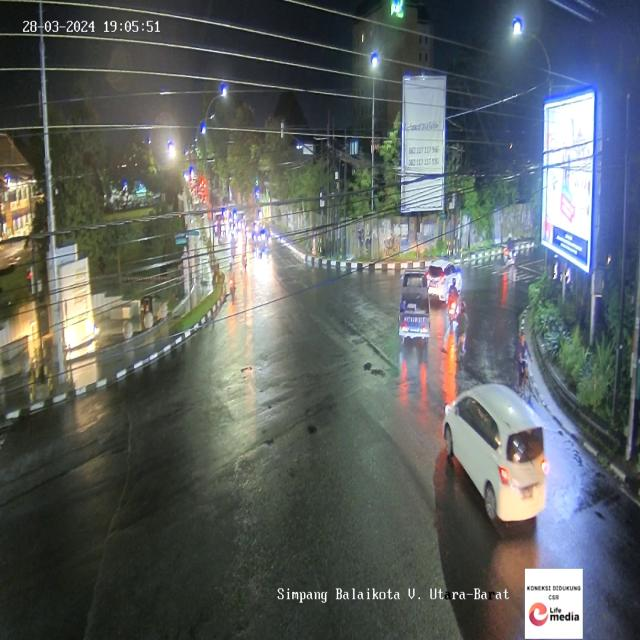car: (446, 382, 552, 528), (425, 259, 462, 300)
motorcycle: (455, 302, 468, 363), (448, 275, 459, 324), (503, 232, 515, 266), (228, 262, 235, 305), (240, 238, 248, 269)
truck: (398, 273, 429, 341)
